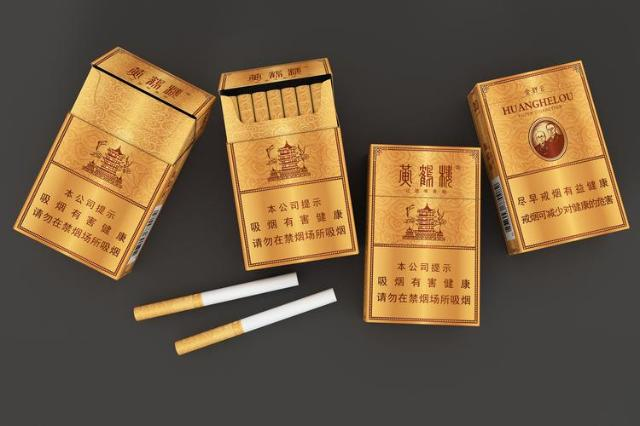Cigarette: (175, 288, 337, 356), (134, 273, 300, 321)
